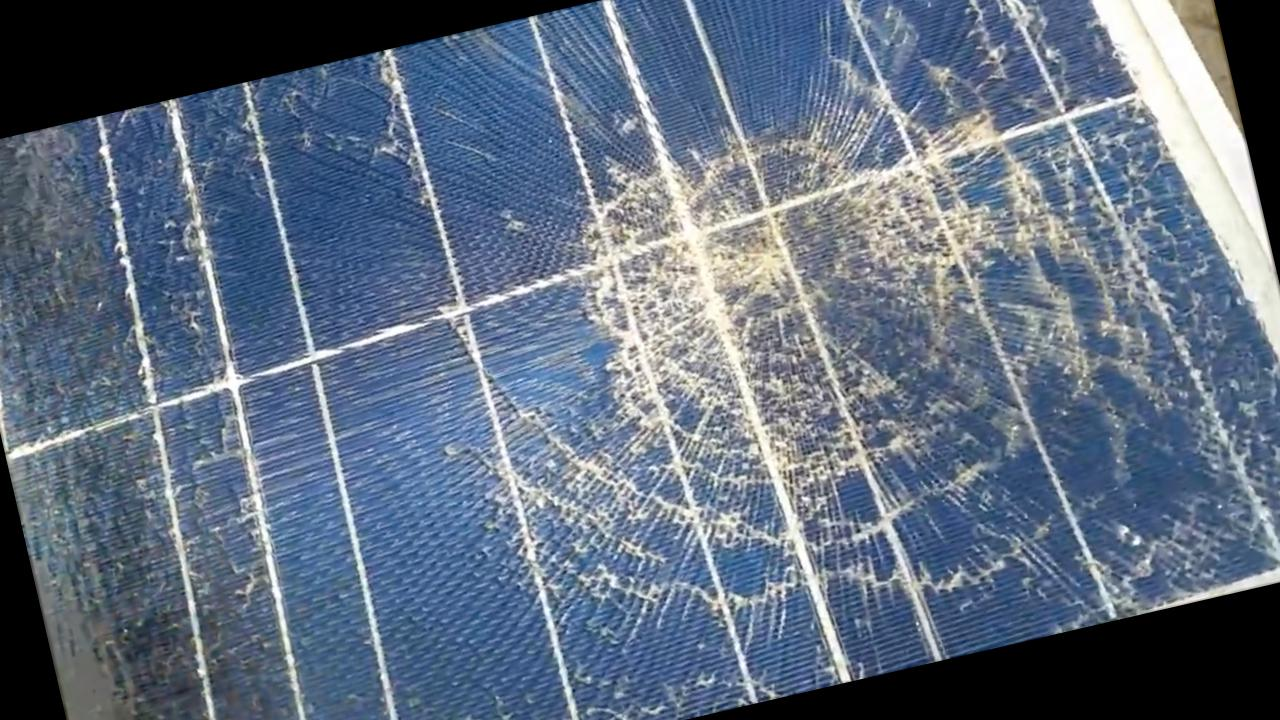Crack: (524, 22, 1119, 600)
